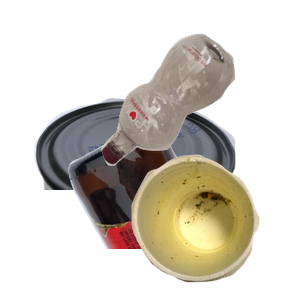glass: (66, 120, 300, 300)
metal: (16, 96, 244, 276)
plastic: (99, 31, 300, 189)
trash: (129, 152, 300, 300)
